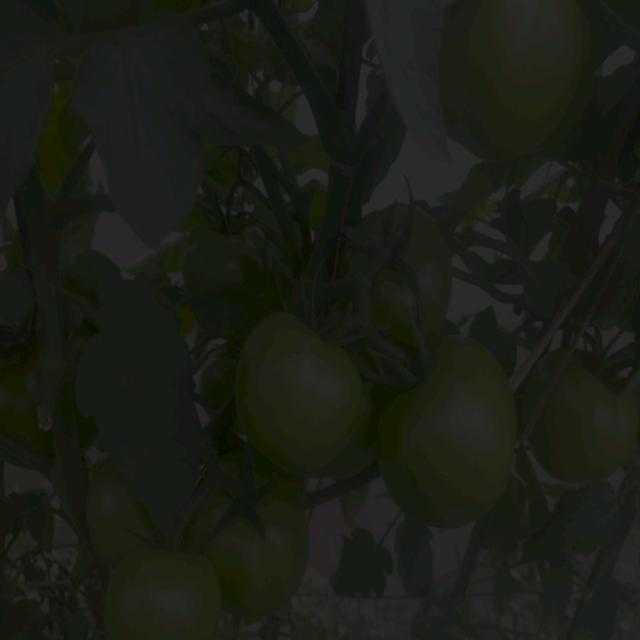tomato: (373, 341, 514, 523), (439, 1, 572, 152), (247, 319, 372, 468), (209, 478, 314, 616), (355, 202, 451, 320), (546, 353, 638, 476), (98, 554, 226, 640), (85, 464, 152, 558), (193, 210, 250, 286), (1, 367, 49, 448)
